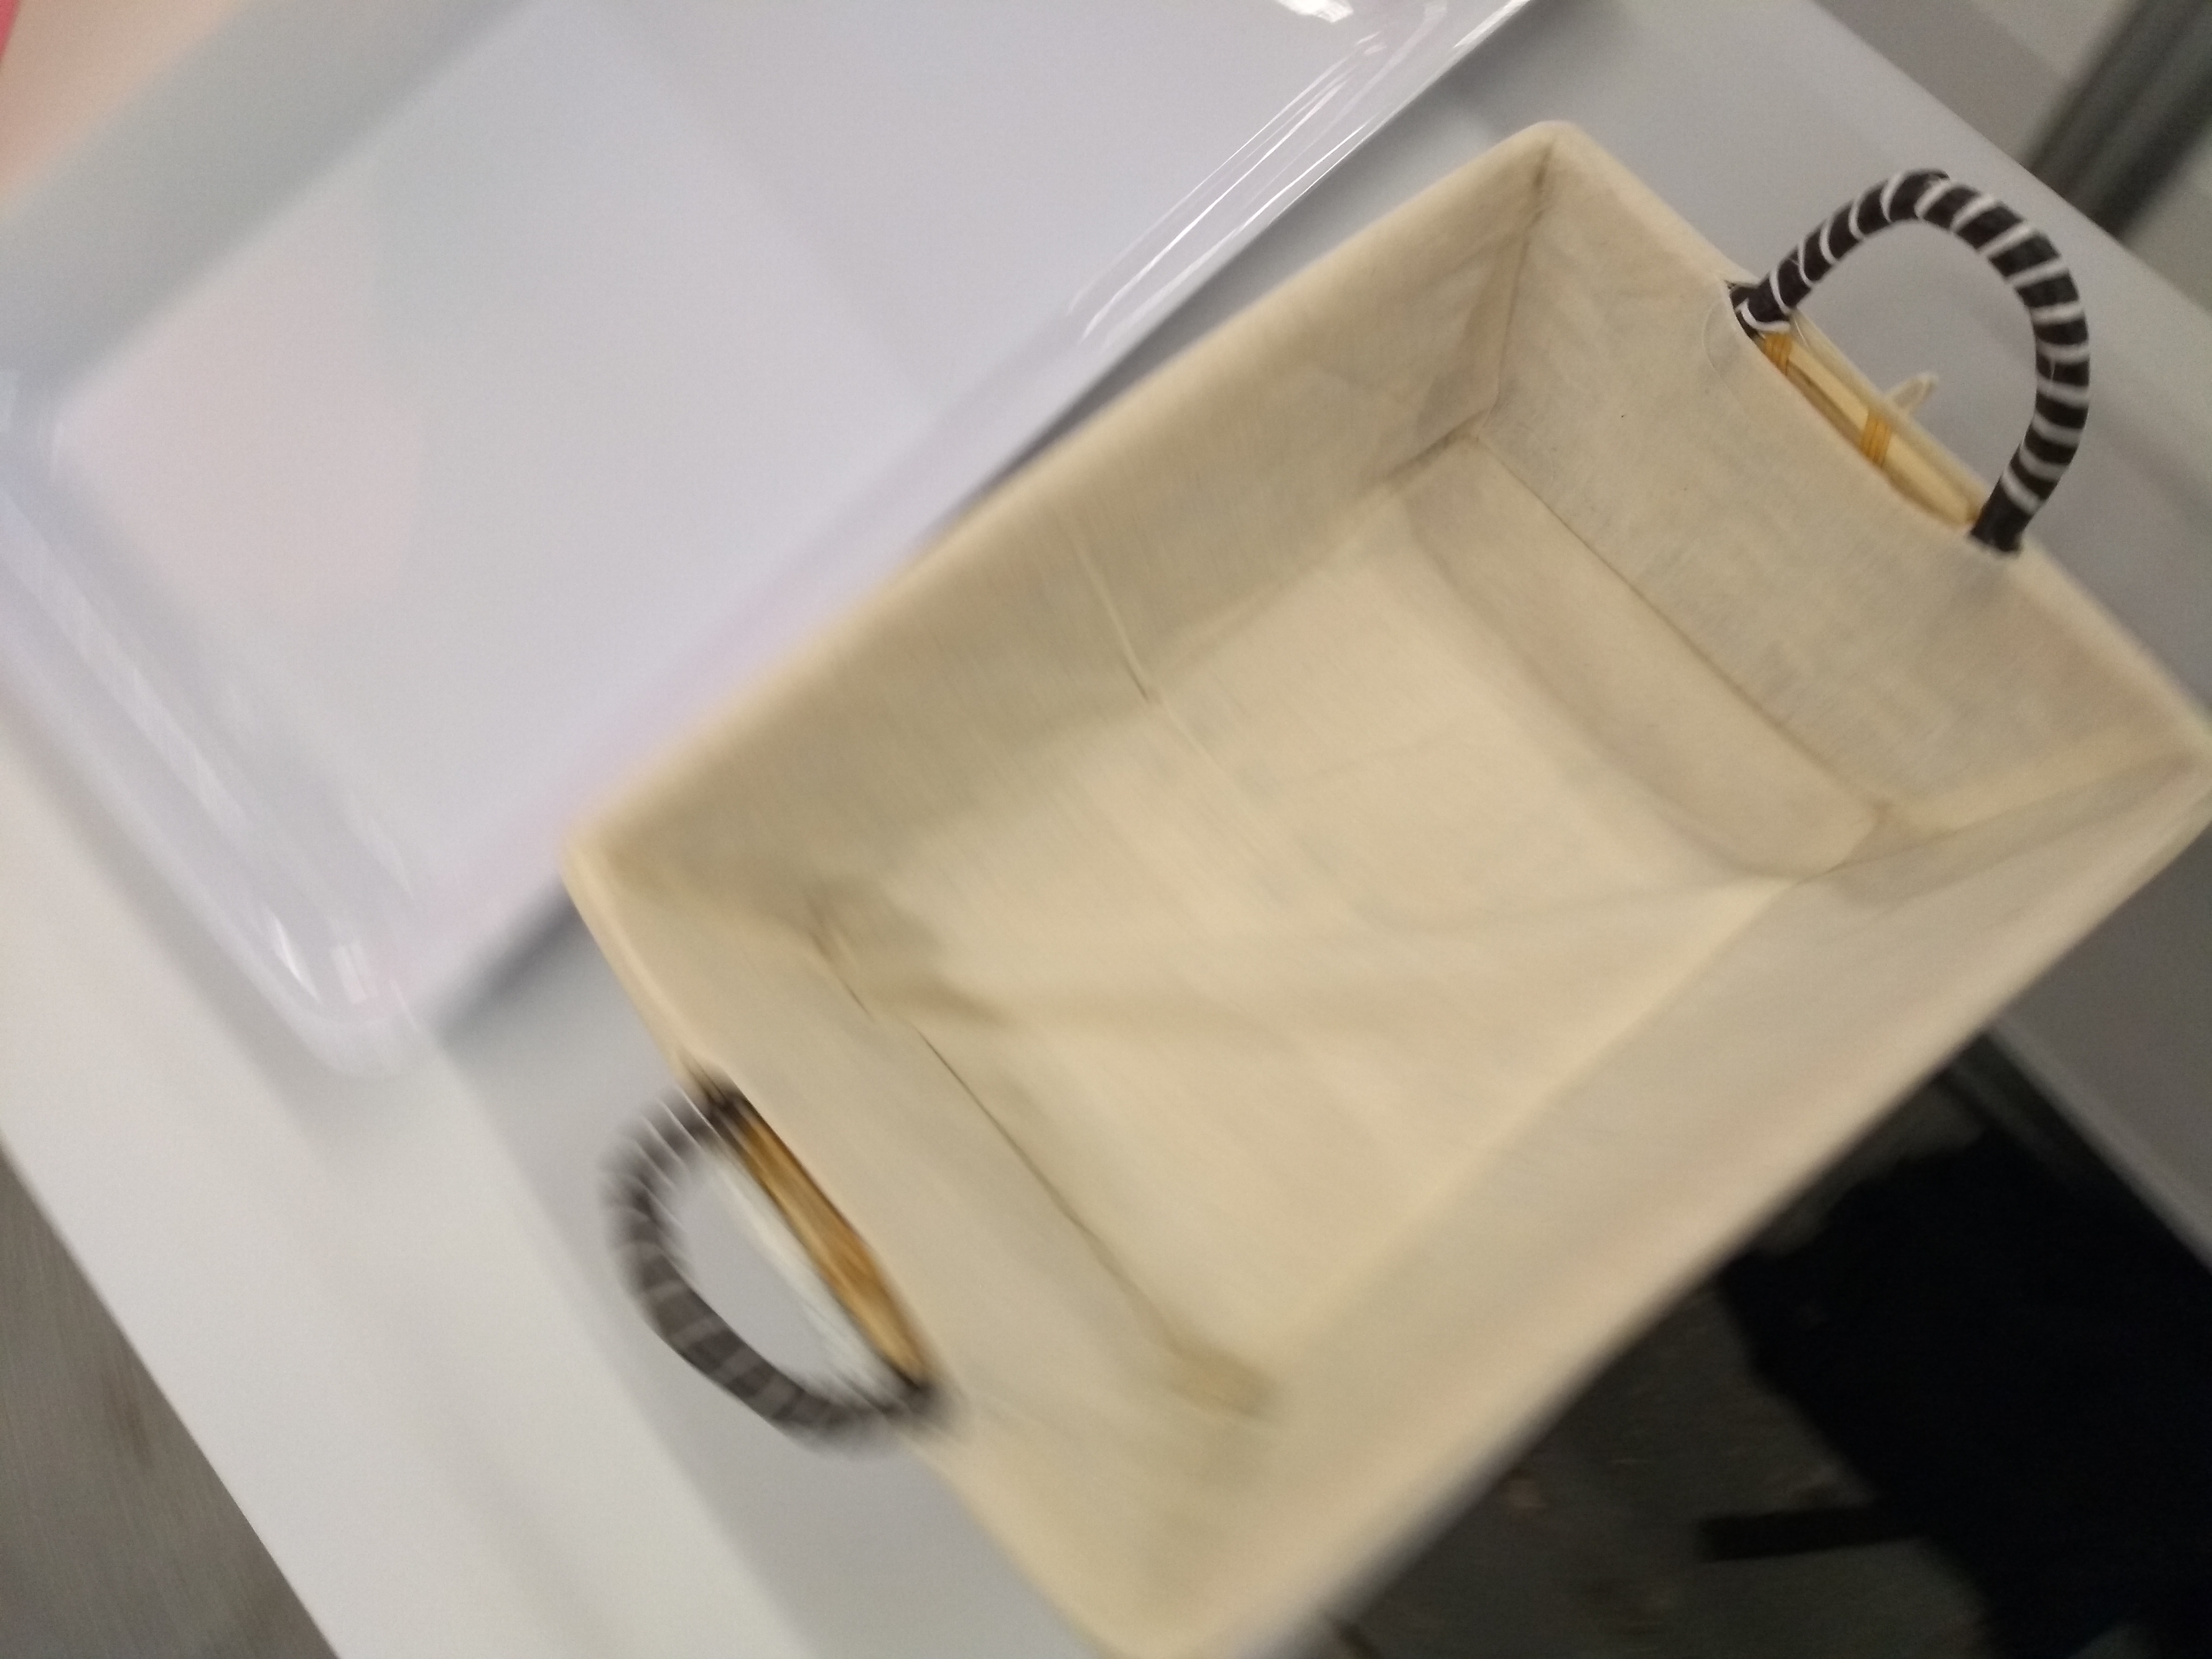basket: (571, 106, 2207, 1659)
